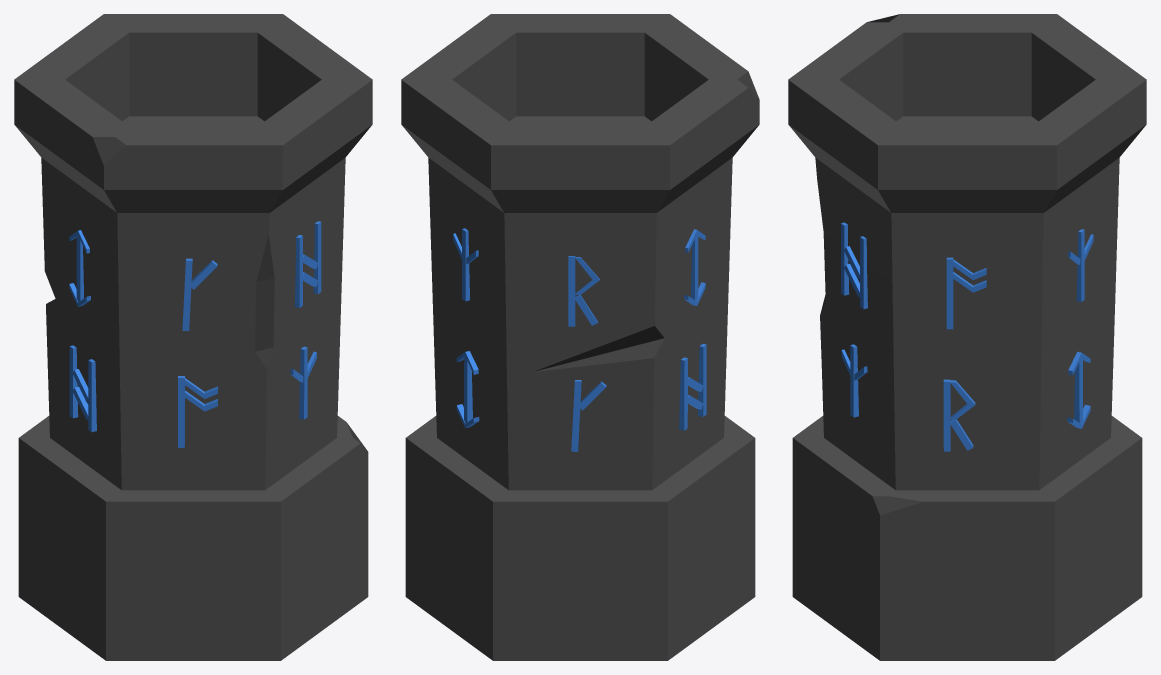
File: tower01.fbx
The picture shows the model from 3 angles, left to right: view 1: azimuth 30°, elevation 25°; view 2: azimuth 150°, elevation 25°; view 3: azimuth 270°, elevation 25°; orthographic projection.
Visible parts, largest first — view 1: tower01; view 2: tower01; view 3: tower01.
Part boxes in pixels (x1,y1,x2,y2): tower01: [14, 14, 372, 660]; tower01: [401, 14, 759, 660]; tower01: [788, 14, 1146, 660].
Size of the model in its own units: 201 by 369 by 232.
